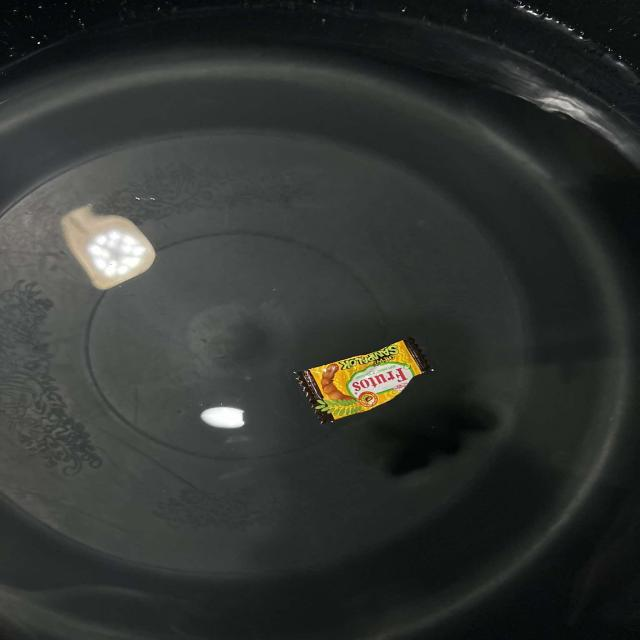Plastic Wrapper: (290, 337, 435, 424), (420, 394, 455, 424)
